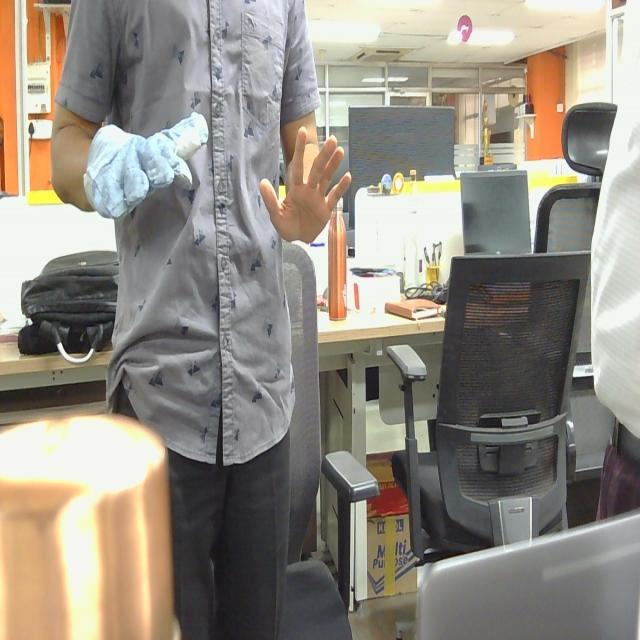Gloves-Detection: (84, 103, 210, 233)
